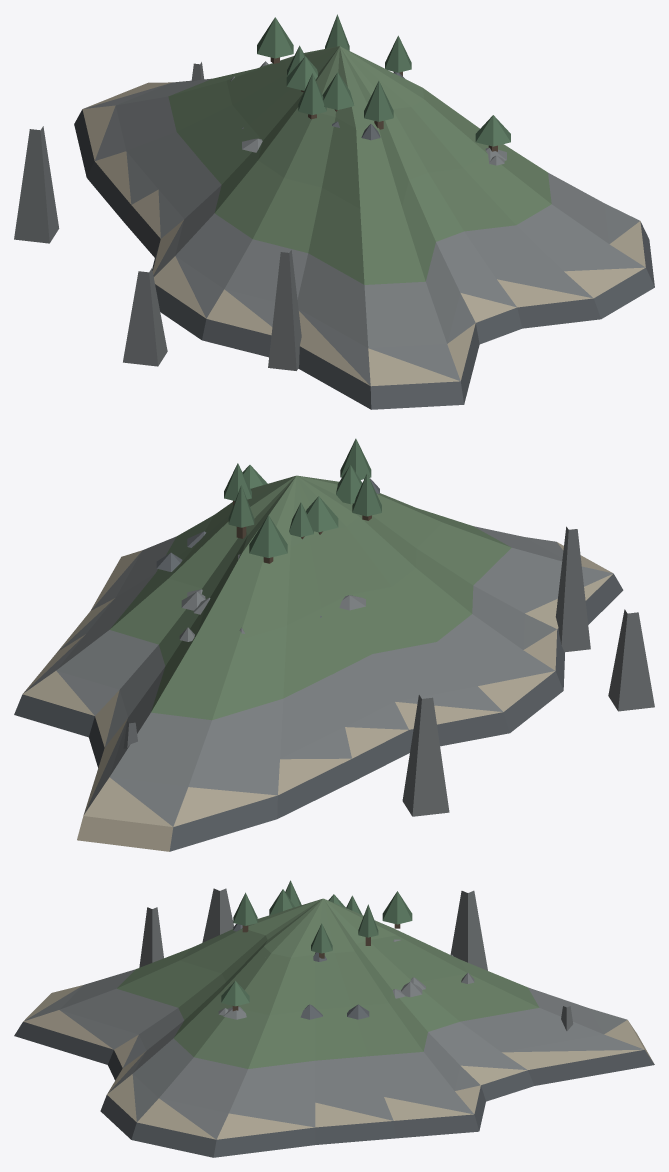
The model's file is chain_town_lod0.glb.
3 renders of one model, top to bottom at view 1: azimuth 30°, elevation 25°; view 2: azimuth 150°, elevation 25°; view 3: azimuth 270°, elevation 25°, orthographic. The views are drawn at different scales.
Size of the model in its own units: 2.14 by 0.8554 by 2.81.
